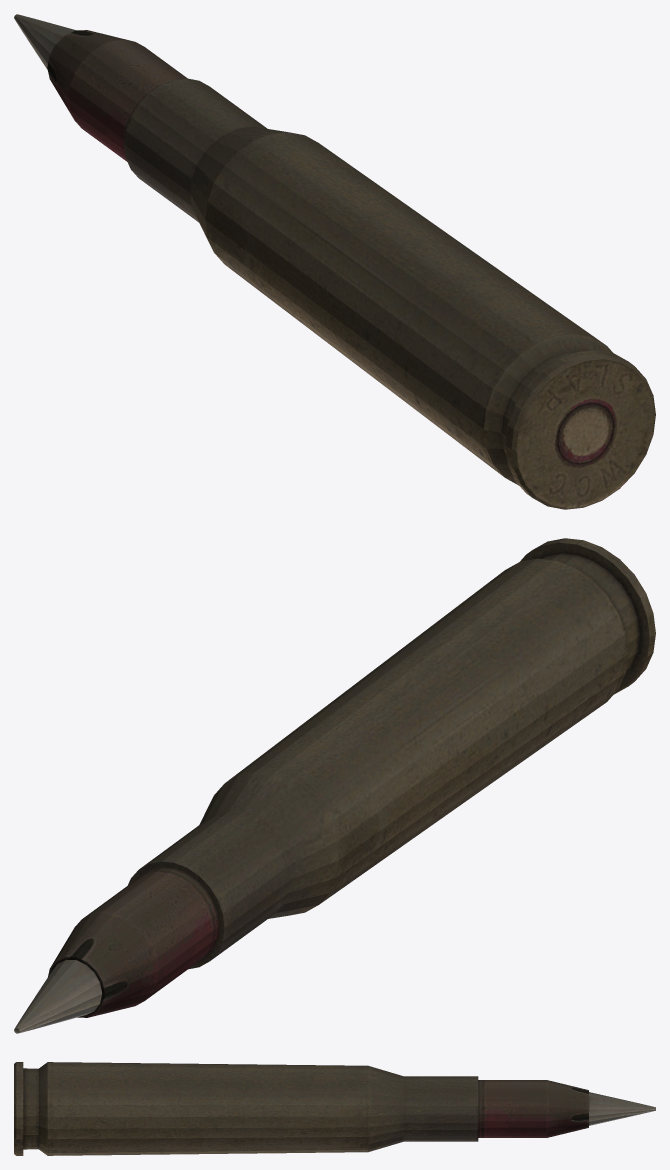
The picture shows the model from 3 angles, top to bottom: view 1: azimuth 30°, elevation 25°; view 2: azimuth 150°, elevation 25°; view 3: azimuth 270°, elevation 25°; orthographic projection. The views are drawn at different scales.
Parts seen in each view (by area): view 1: TW_67dc2648ba5b79876906a166_PZ_Import; view 2: TW_67dc2648ba5b79876906a166_PZ_Import; view 3: TW_67dc2648ba5b79876906a166_PZ_Import.
Boxes of the visible parts, bbox=[...] form: TW_67dc2648ba5b79876906a166_PZ_Import: bbox=[14, 14, 655, 509]; TW_67dc2648ba5b79876906a166_PZ_Import: bbox=[14, 538, 655, 1033]; TW_67dc2648ba5b79876906a166_PZ_Import: bbox=[14, 1062, 655, 1155].
Bounding box in the file's own units: 0.0117 × 0.0799 × 0.0117.
1 material, 1 textured.
